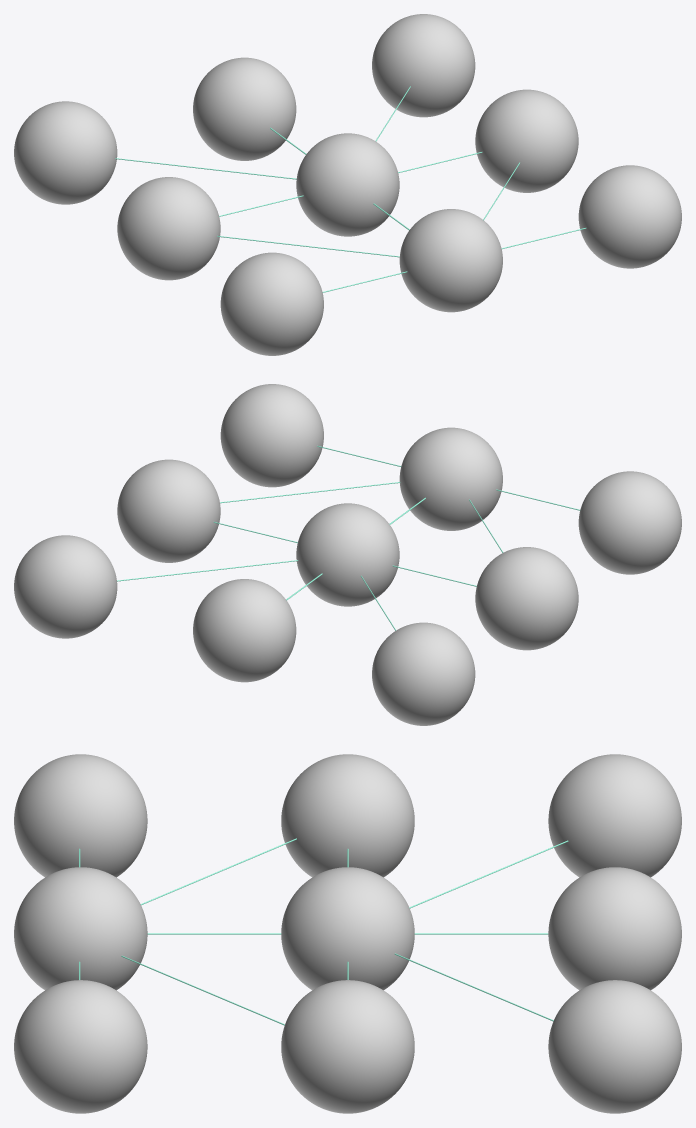
3 renders of one model, top to bottom at view 1: azimuth 30°, elevation 25°; view 2: azimuth 150°, elevation 25°; view 3: azimuth 270°, elevation 25°, orthographic. The views are drawn at different scales.
Visible parts, largest first — view 1: Cylinder-Plastic, Cylinder-PBR; view 2: Cylinder-Plastic, Cylinder-PBR; view 3: Cylinder-Plastic, Cylinder-PBR.
Part boxes in pixels (bbox=[...]): Cylinder-Plastic: bbox=[14, 14, 681, 355]; Cylinder-PBR: bbox=[115, 86, 586, 292]; Cylinder-Plastic: bbox=[14, 384, 681, 725]; Cylinder-PBR: bbox=[117, 445, 580, 630]; Cylinder-Plastic: bbox=[14, 754, 681, 1113]; Cylinder-PBR: bbox=[79, 838, 568, 1025].
Size of the model in its own units: 500 by 100 by 500.
